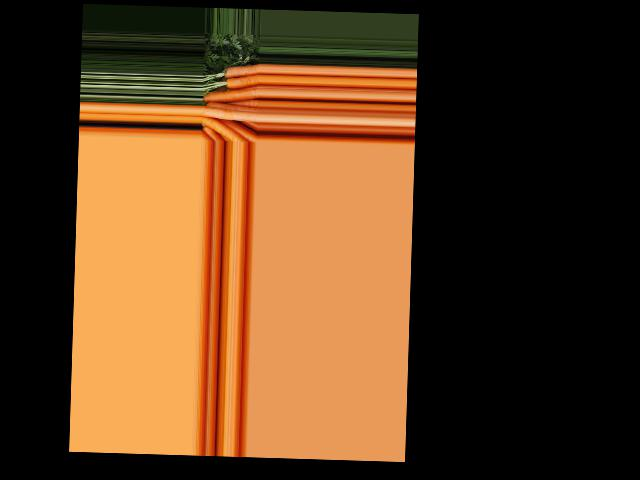carrot: (202, 118, 245, 141)
